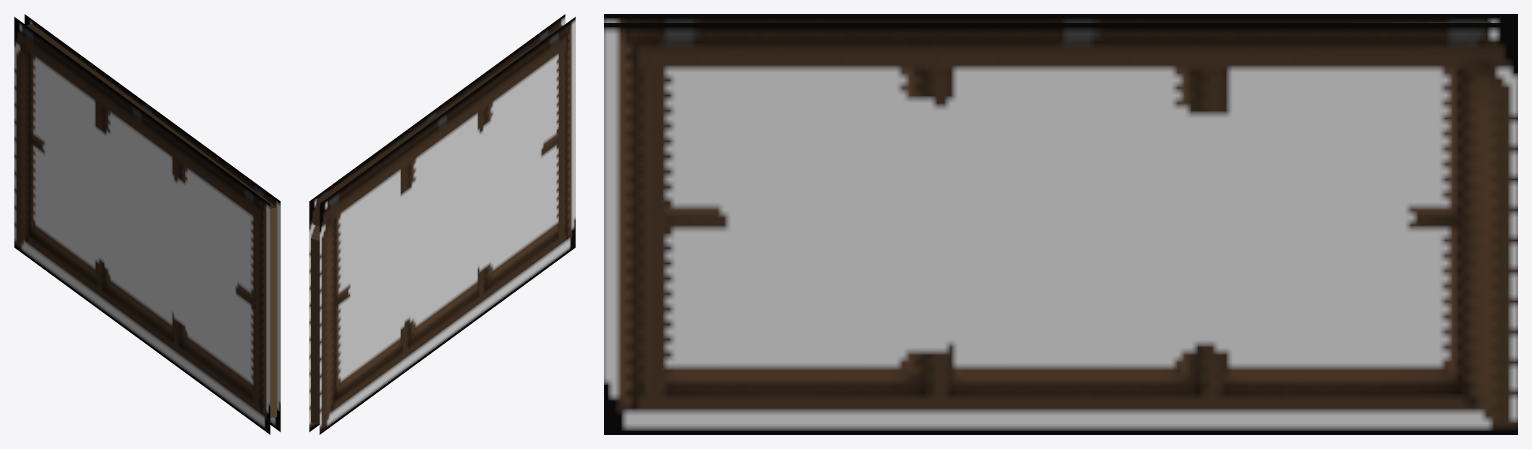
Rendered from pz_native_fixtures_windows_wood_100_frame.obj.
3 renders of one model, left to right at view 1: azimuth 30°, elevation 25°; view 2: azimuth 150°, elevation 25°; view 3: azimuth 270°, elevation 25°, orthographic. The views are drawn at different scales.
Visible parts, largest first — view 1: pz_native_fixtures_windows_wood_100_frame; view 2: pz_native_fixtures_windows_wood_100_frame; view 3: pz_native_fixtures_windows_wood_100_frame.
Part boxes in pixels (x1,y1,x2,y2): pz_native_fixtures_windows_wood_100_frame: (14,14,280,434); pz_native_fixtures_windows_wood_100_frame: (309,14,575,434); pz_native_fixtures_windows_wood_100_frame: (604,14,1517,434).
Size of the model in its own units: 0.04 by 0.8438 by 1.7.
1 material, 1 textured.
